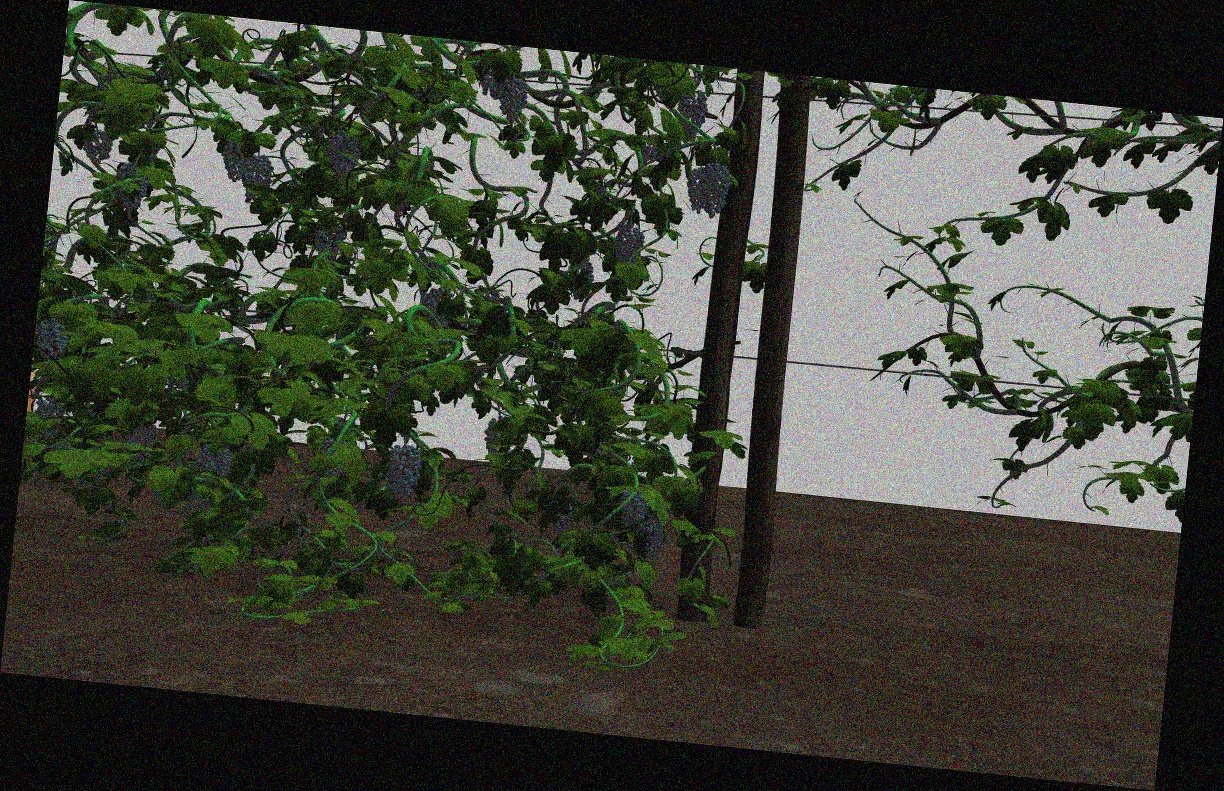grape: (384, 443, 423, 499), (324, 130, 362, 184), (239, 155, 274, 204), (702, 162, 732, 218), (495, 76, 529, 123), (114, 164, 149, 208), (678, 90, 707, 139), (36, 320, 69, 360), (198, 445, 232, 480), (613, 226, 644, 264), (217, 142, 247, 181), (619, 490, 649, 528), (684, 167, 707, 215), (83, 129, 113, 165), (640, 522, 665, 563)
